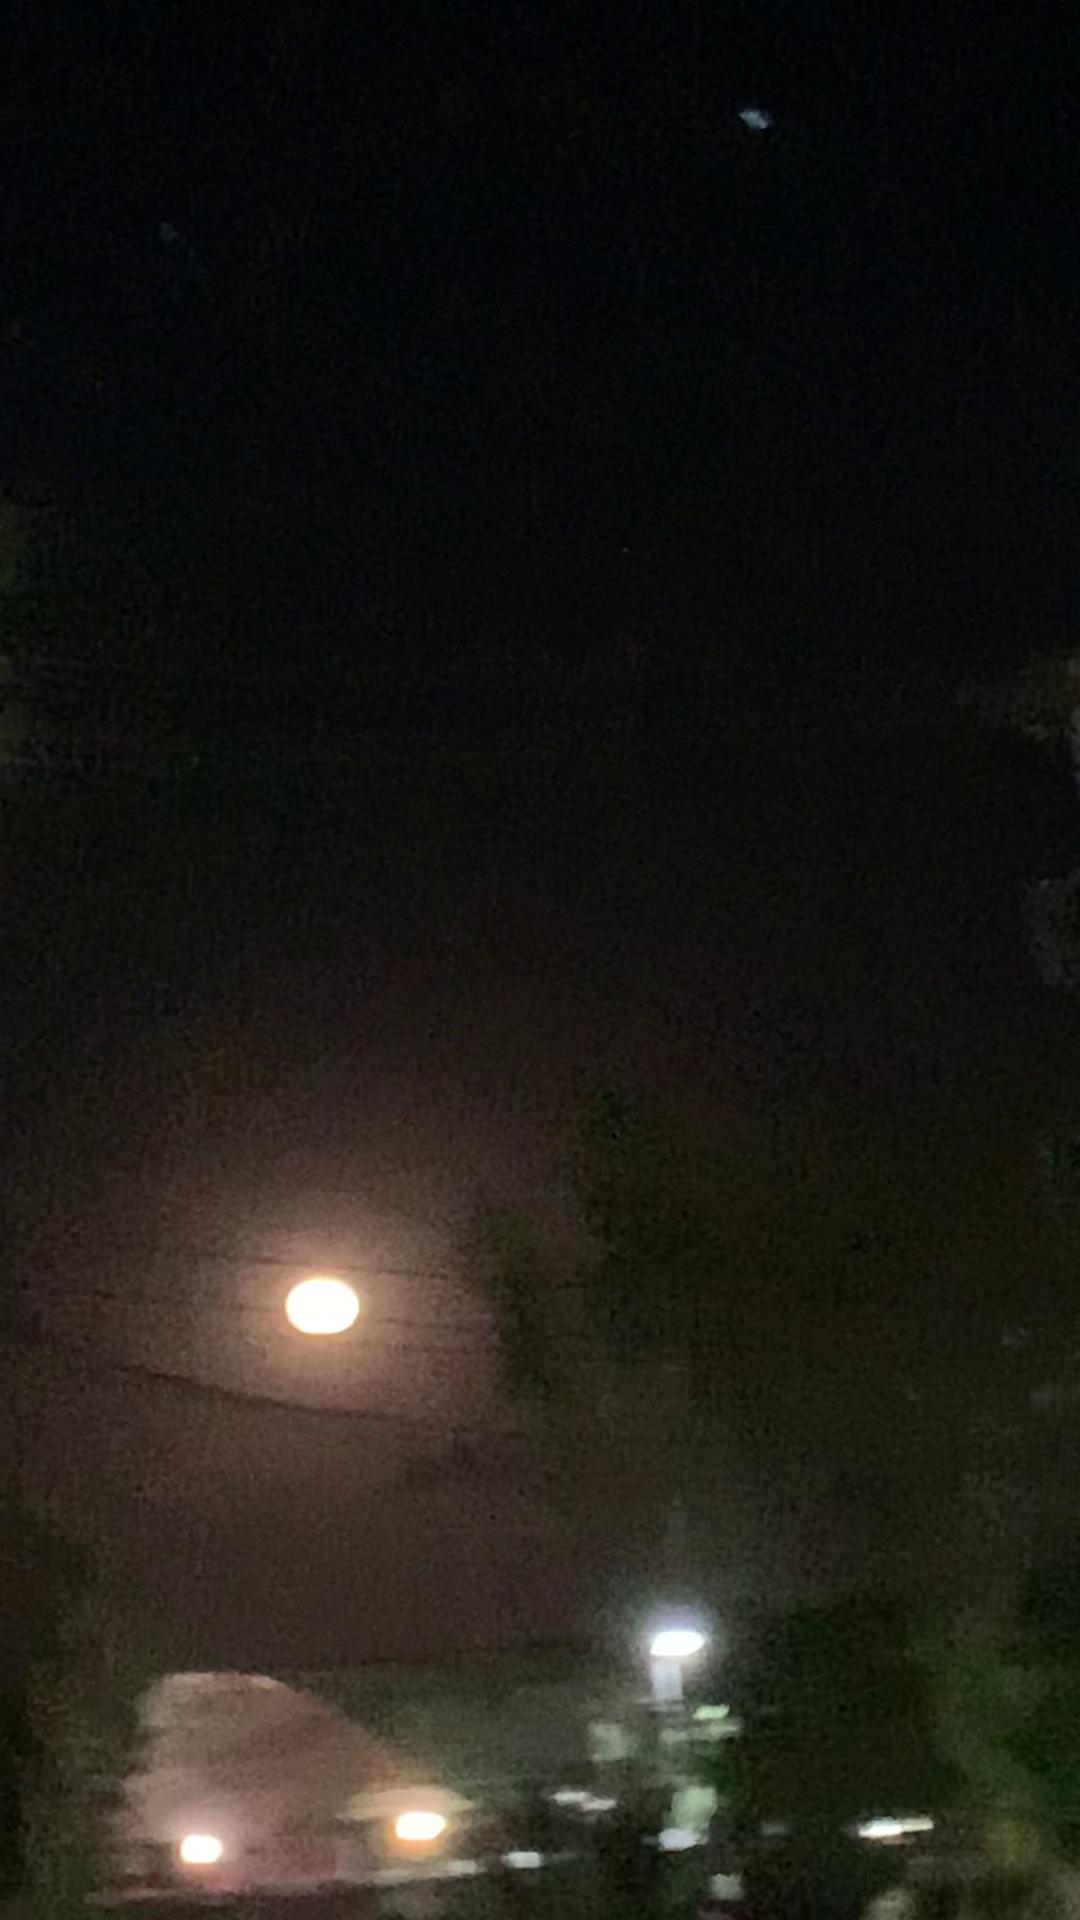moon: (278, 1262, 376, 1344)
